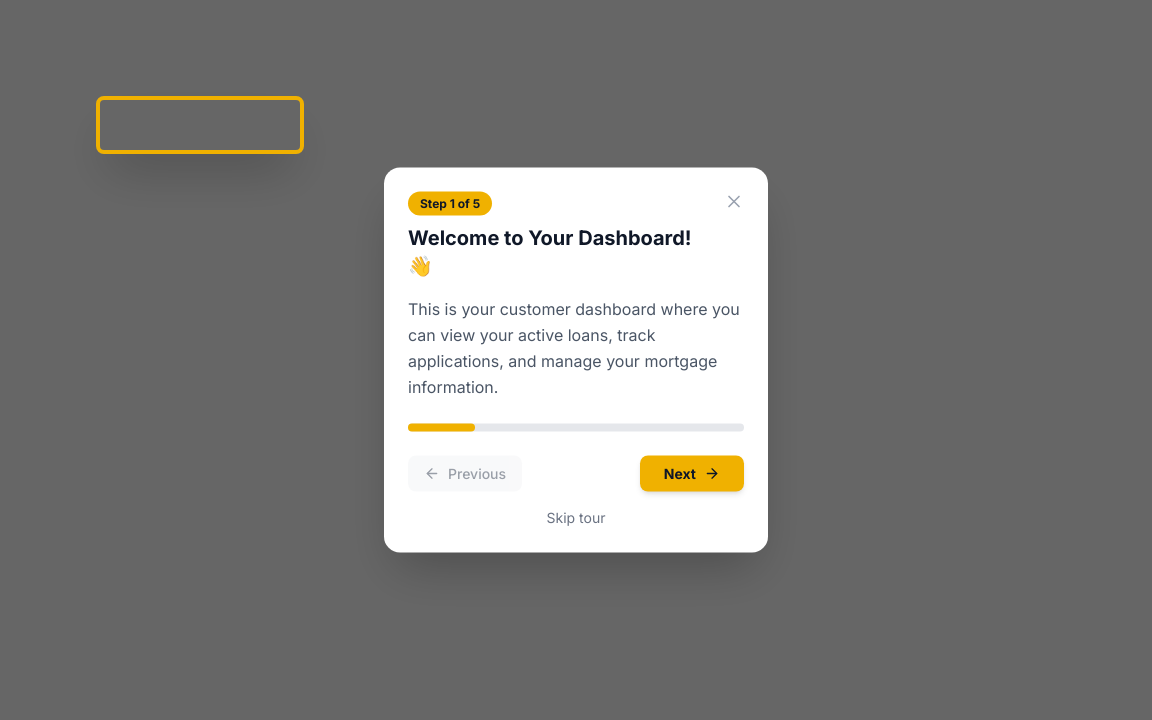
DashboardWalkthrough › should navigate to next step
The width and height of the screenshot is (1152, 720).
Expected: the heading "Welcome to Your Dashboard! 👋" is shown, [408,224,716,280]
Click the button "Next".
click(692, 474)  # box [640,456,744,492]
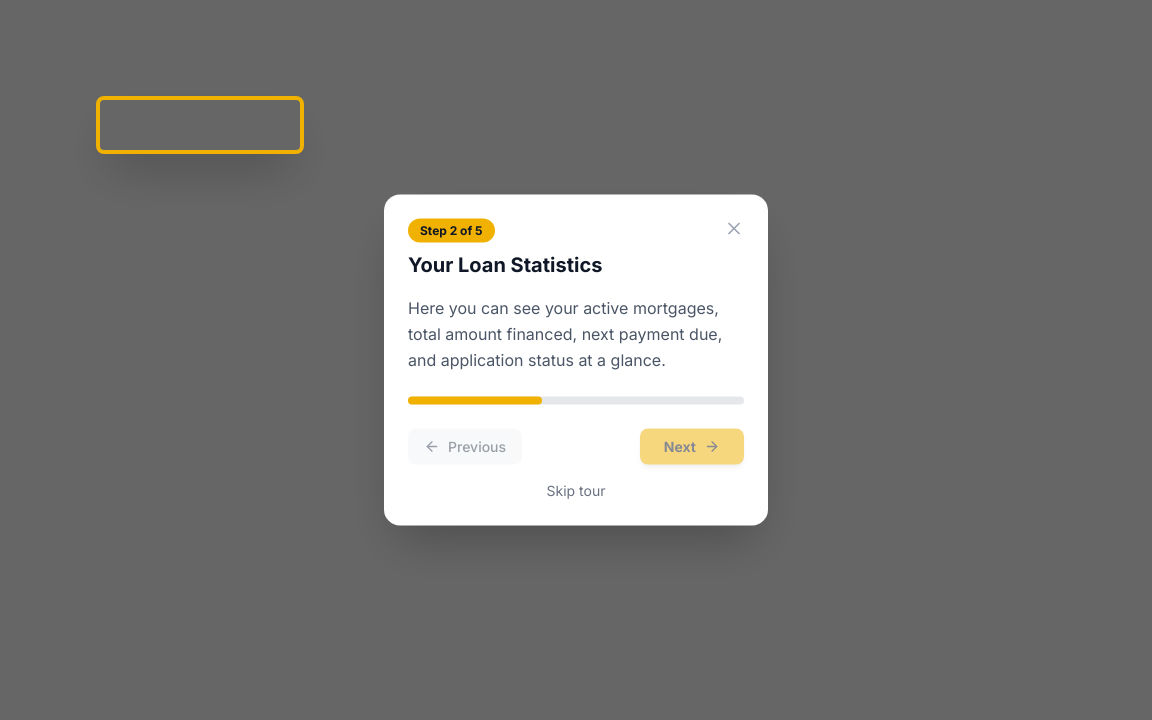
Now the text "Step 2 of 5" is shown, box [408,218,495,242]
